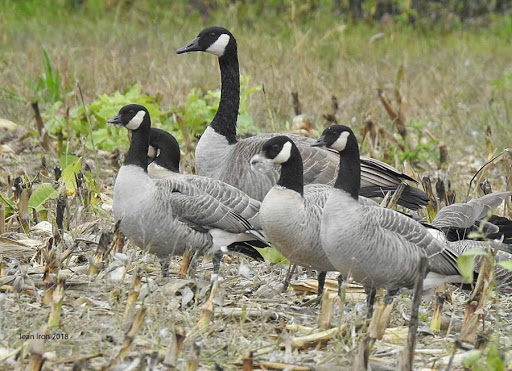goose: (174, 23, 428, 206), (309, 124, 493, 296), (105, 103, 263, 286), (249, 134, 390, 273), (147, 127, 264, 229)
